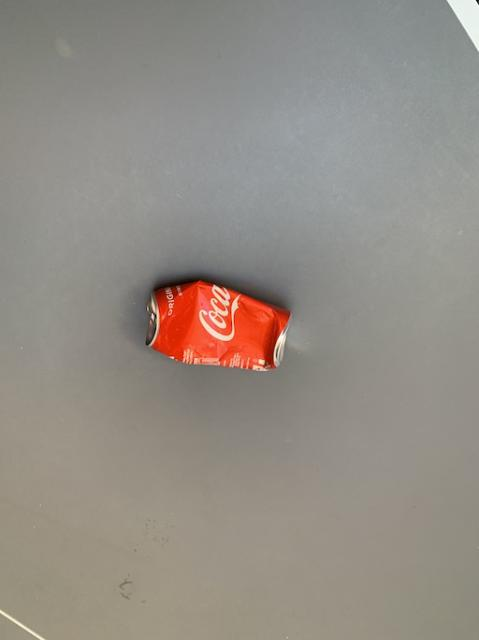metal: (145, 280, 289, 369)
